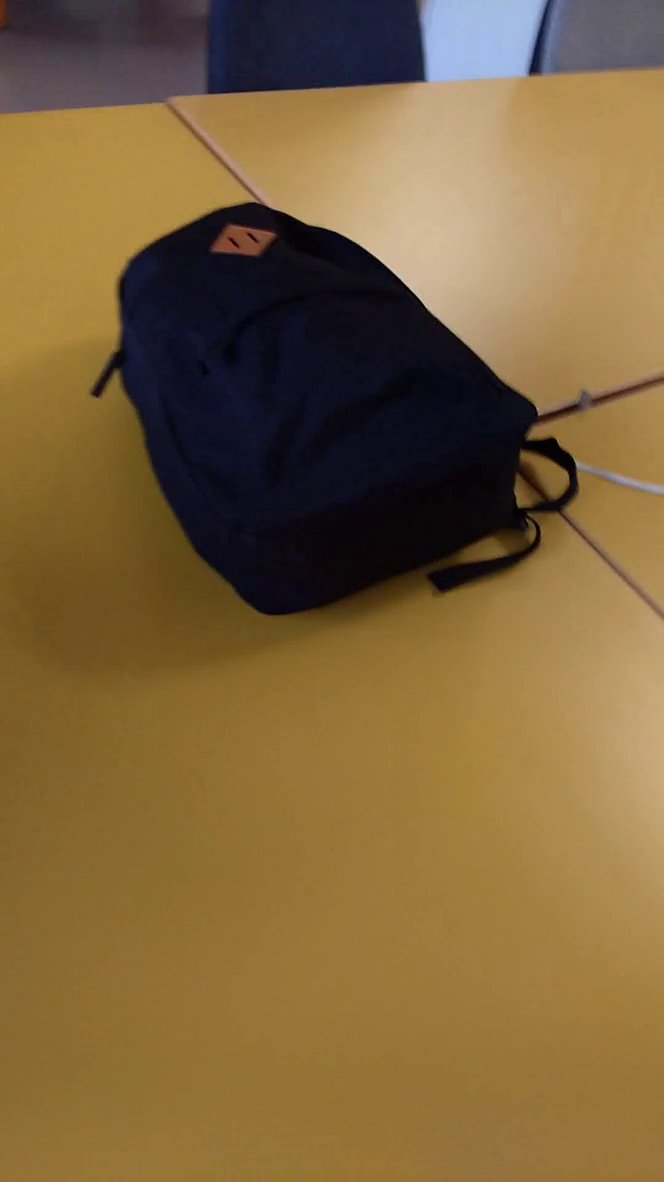bag: (86, 190, 609, 625)
